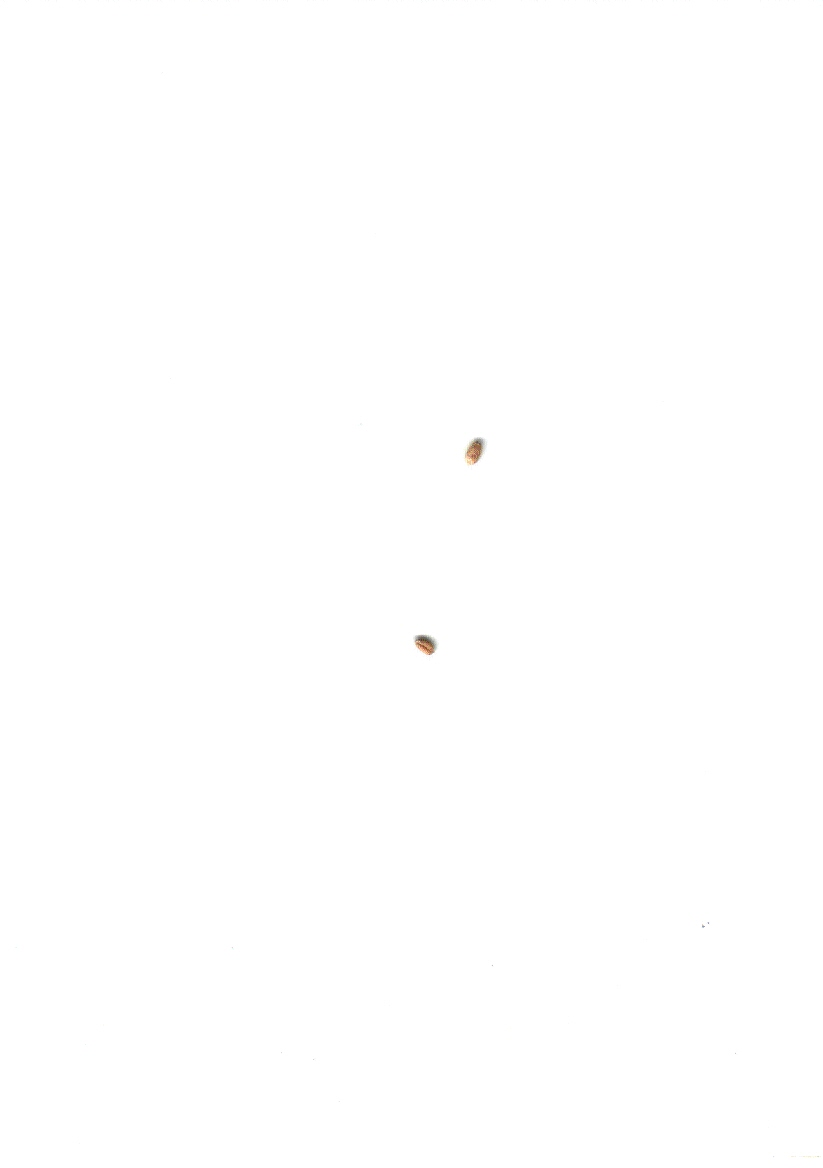grains: (458, 430, 490, 475), (406, 624, 442, 664)
